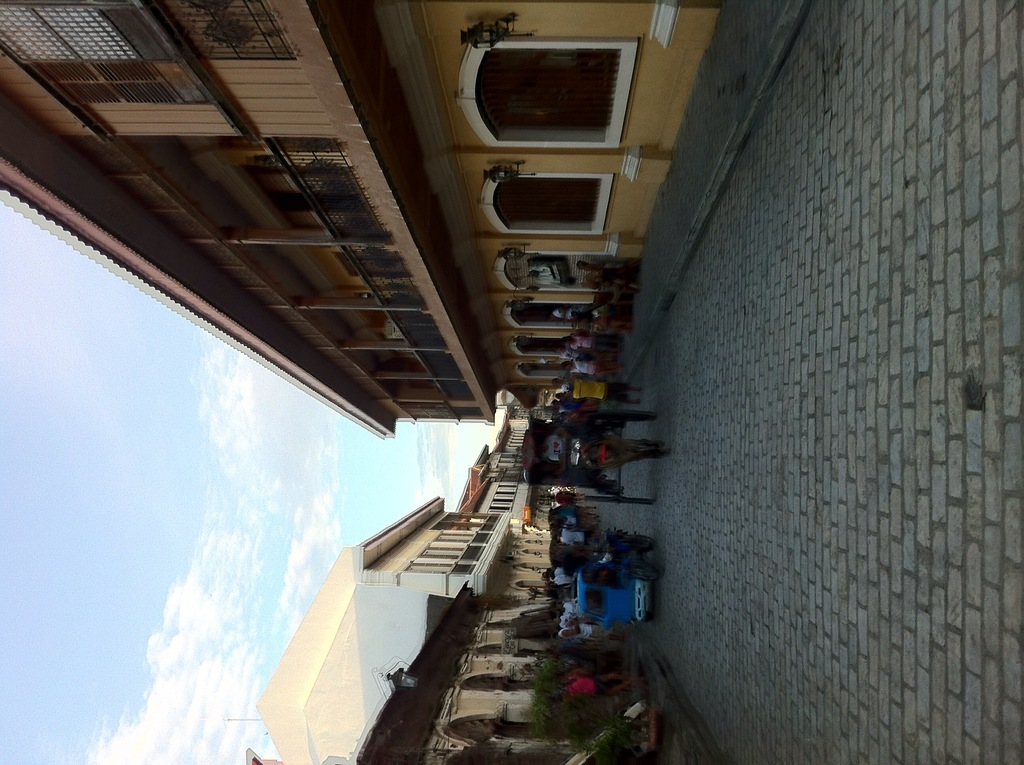Window: (470, 22, 653, 146), (469, 171, 609, 239), (402, 524, 479, 576), (506, 302, 594, 330), (506, 330, 580, 361), (514, 356, 569, 383), (487, 476, 520, 514)
